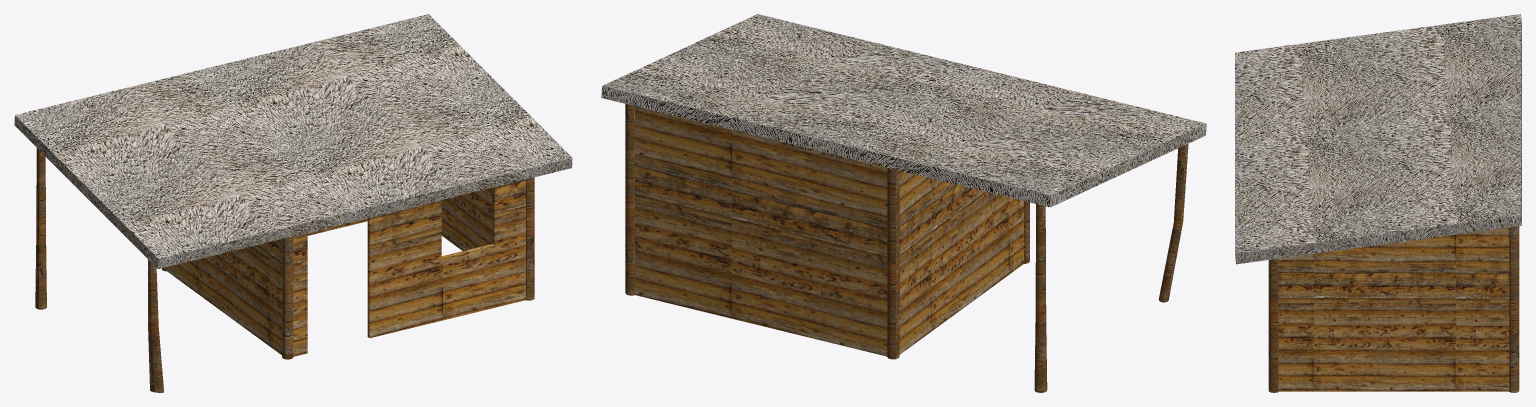
File: Cabane.FBX
3 views of the same model, side by side, from view 1: azimuth 30°, elevation 25°; view 2: azimuth 150°, elevation 25°; view 3: azimuth 270°, elevation 25° (orthographic). The views are drawn at different scales.
Parts seen in each view (by area): view 1: Cabane; view 2: Cabane; view 3: Cabane.
Boxes of the visible parts, x1,y1,x2,y2 form: Cabane: (14, 14, 572, 392); Cabane: (601, 14, 1206, 392); Cabane: (1235, 14, 1521, 392).
Size of the model in its own units: 1917 by 846 by 1156.
